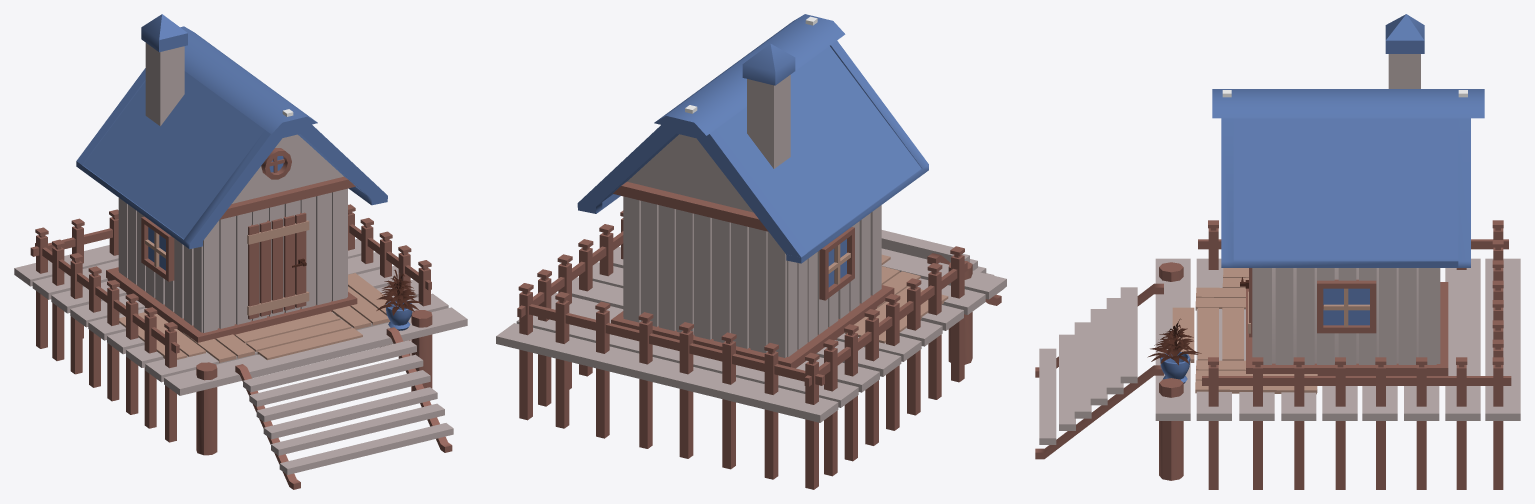
File: building.glb
The picture shows the model from 3 angles, left to right: view 1: azimuth 30°, elevation 25°; view 2: azimuth 150°, elevation 25°; view 3: azimuth 270°, elevation 25°; orthographic projection. The views are drawn at different scales.
Visible parts, largest first — view 1: Object_2; view 2: Object_2; view 3: Object_2.
Part boxes in pixels (x1,y1,x2,y2): Object_2: (14, 14, 467, 489); Object_2: (496, 14, 1006, 489); Object_2: (1035, 14, 1520, 489).
Bounding box in the file's own units: 4.72 × 5.39 × 6.24.
Materials: 1 (1 with a texture image).
